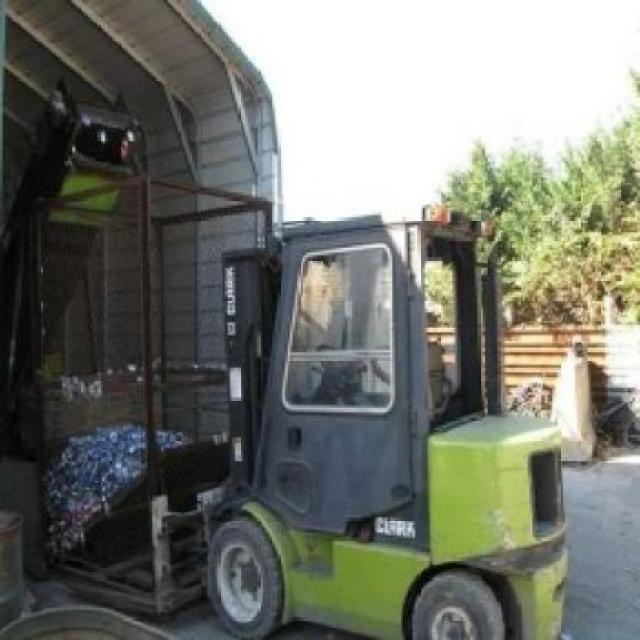forklift: (207, 207, 567, 640)
